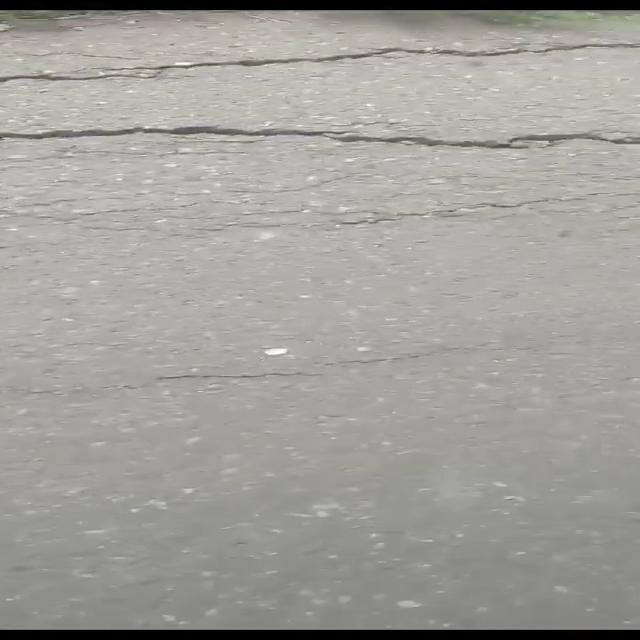Melintang: (0, 38, 640, 89), (0, 116, 640, 164)
